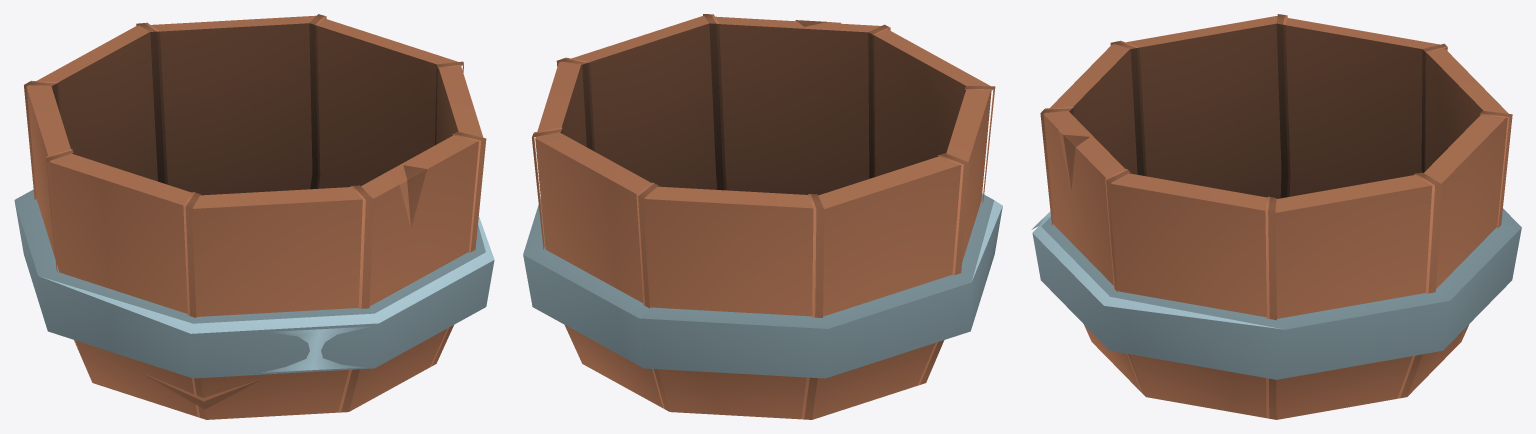
File: bucketwooden.glb
The picture shows the model from 3 angles, left to right: view 1: azimuth 30°, elevation 25°; view 2: azimuth 150°, elevation 25°; view 3: azimuth 270°, elevation 25°; orthographic projection.
Visible parts, largest first — view 1: bucketwooden; view 2: bucketwooden; view 3: bucketwooden.
Boxes of the visible parts, <box> form: bucketwooden: <box>14,14,494,419</box>; bucketwooden: <box>523,14,1002,419</box>; bucketwooden: <box>1031,14,1521,419</box>.
Size of the model in its own units: 0.746 by 0.3933 by 0.7572.
1 material, 1 textured.
